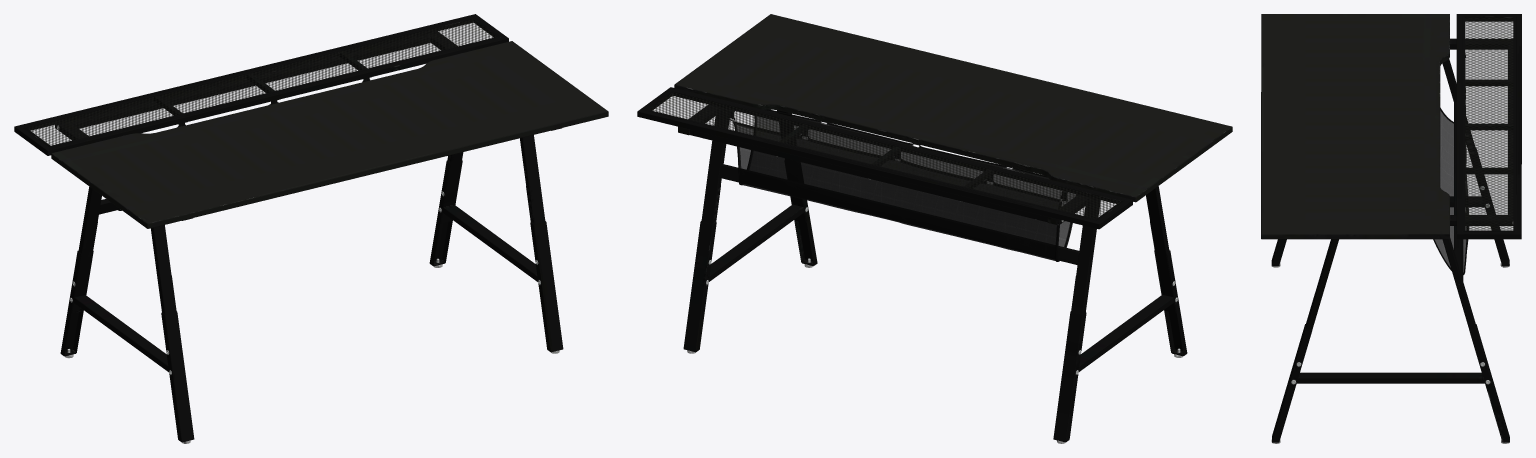
The picture shows the model from 3 angles, left to right: view 1: azimuth 30°, elevation 25°; view 2: azimuth 150°, elevation 25°; view 3: azimuth 270°, elevation 25°; orthographic projection. The views are drawn at different scales.
Visible parts, largest first — view 1: Mesh_0, Mesh_2; view 2: Mesh_0, Mesh_2; view 3: Mesh_0, Mesh_2.
Boxes of the visible parts, <box> form: Mesh_0: <box>14,14,608,443</box>; Mesh_2: <box>27,19,496,210</box>; Mesh_0: <box>637,14,1232,443</box>; Mesh_2: <box>650,92,1119,261</box>; Mesh_0: <box>1261,14,1521,443</box>; Mesh_2: <box>1433,17,1513,274</box>.
Size of the model in its own units: 1.6 by 0.78 by 0.8001.
2 materials, 2 textured.
